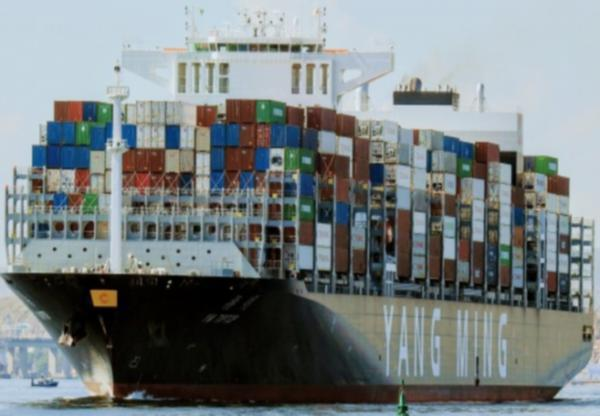Container Ship: (0, 2, 597, 406)
